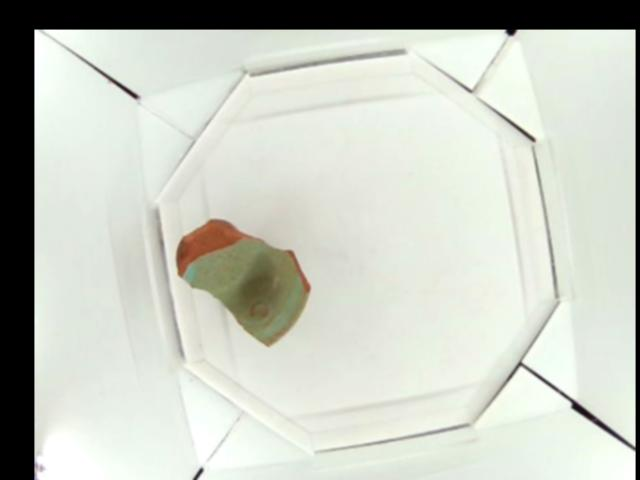China: (175, 215, 307, 347)
